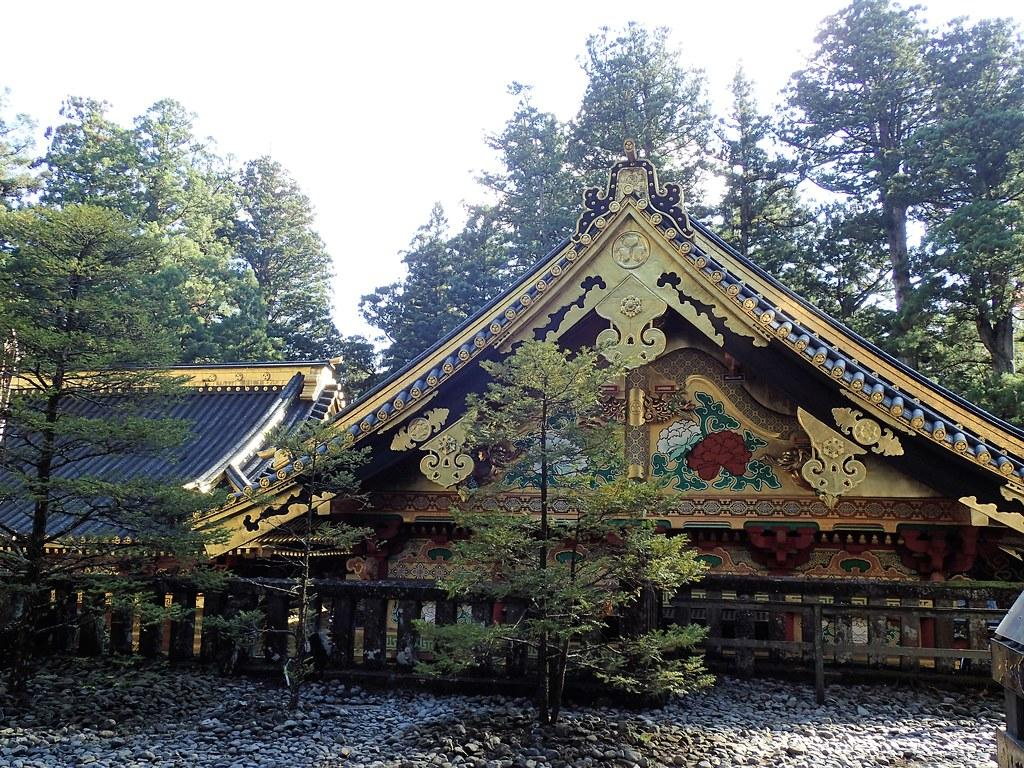temple: (3, 135, 1023, 694)
